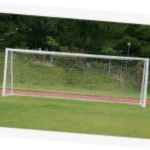goals: (2, 46, 150, 109)
